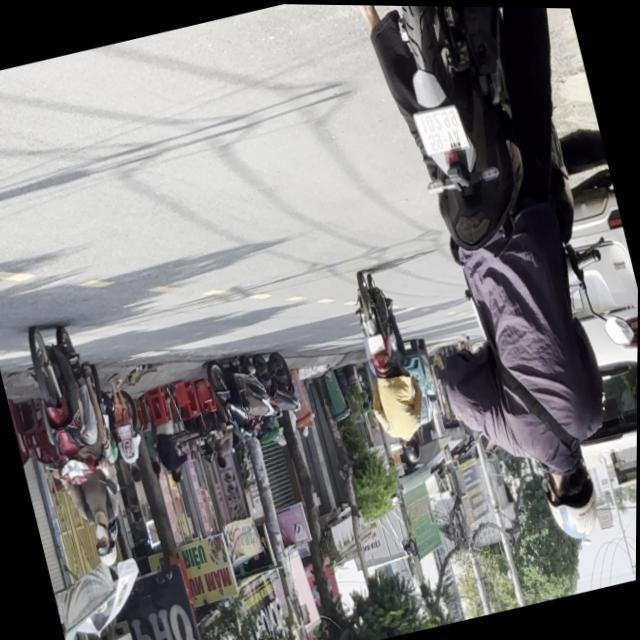helmet: (537, 449, 609, 545), (89, 519, 121, 569), (400, 434, 423, 464)
licenseplate: (348, 4, 640, 566), (14, 315, 141, 577), (341, 265, 438, 471)
nohelmet: (413, 103, 468, 157), (365, 332, 386, 354)
